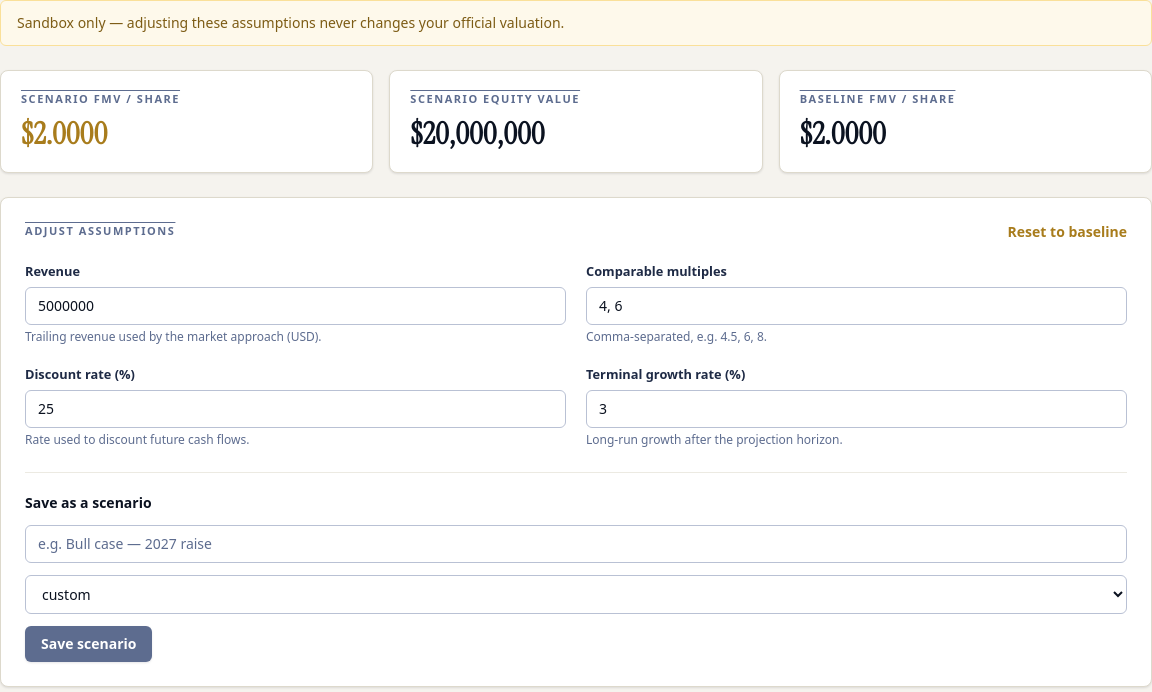
ScenariosTab — failures › surfaces a preview failure and keeps the knobs editable
The width and height of the screenshot is (1152, 692).
Type "50" into the field labelled "Discount rate (%) Rate used to discount future cash flows." at [296, 409], box [25,390,566,428]
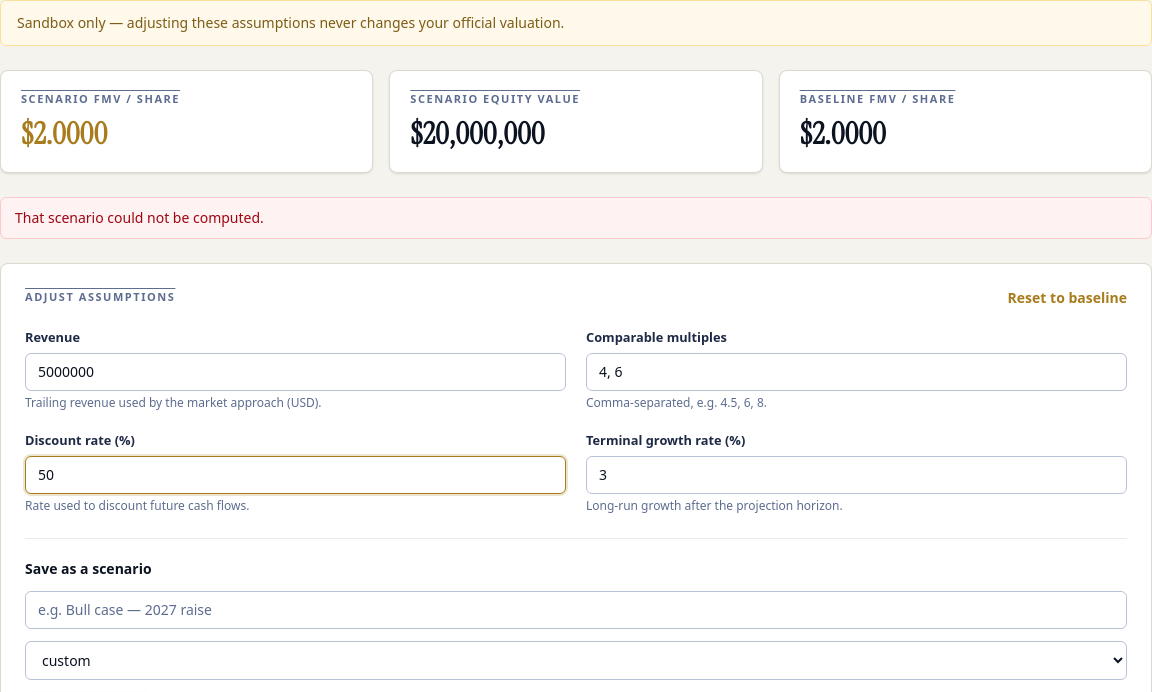
Expected: the text "That scenario could not be computed." is shown, [0,196,1151,238]
